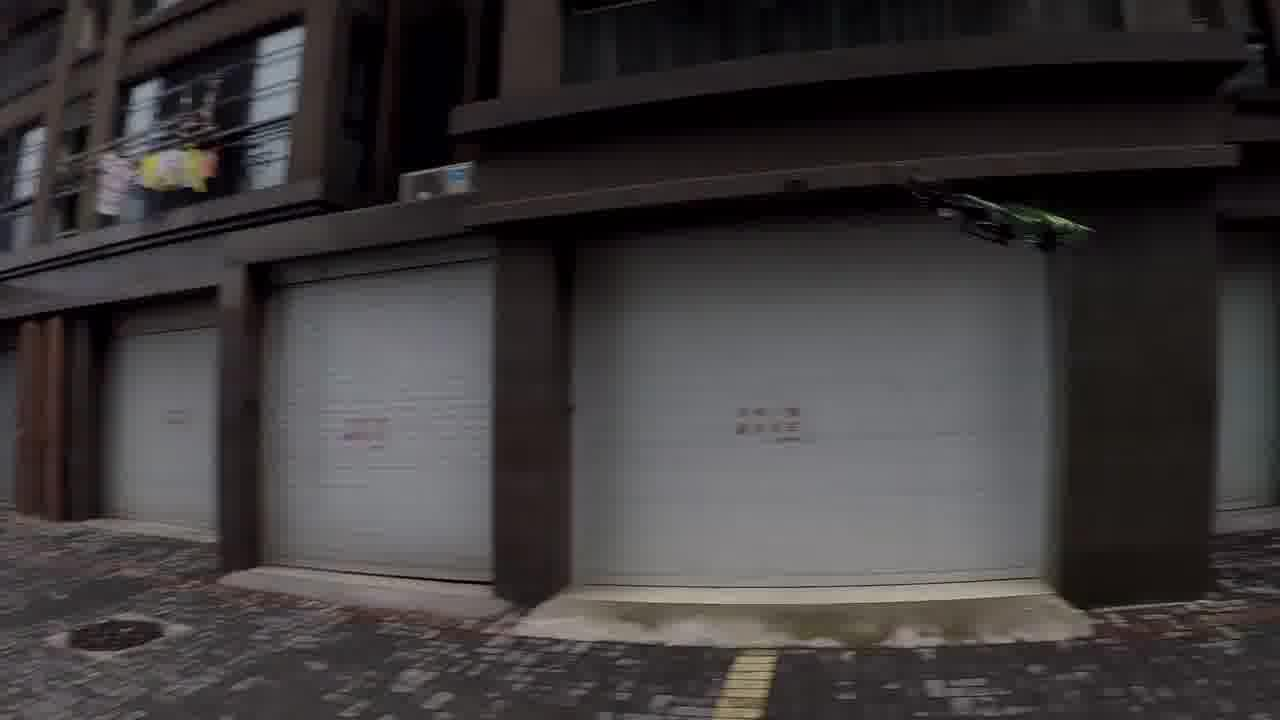drone: (903, 169, 1113, 255)
